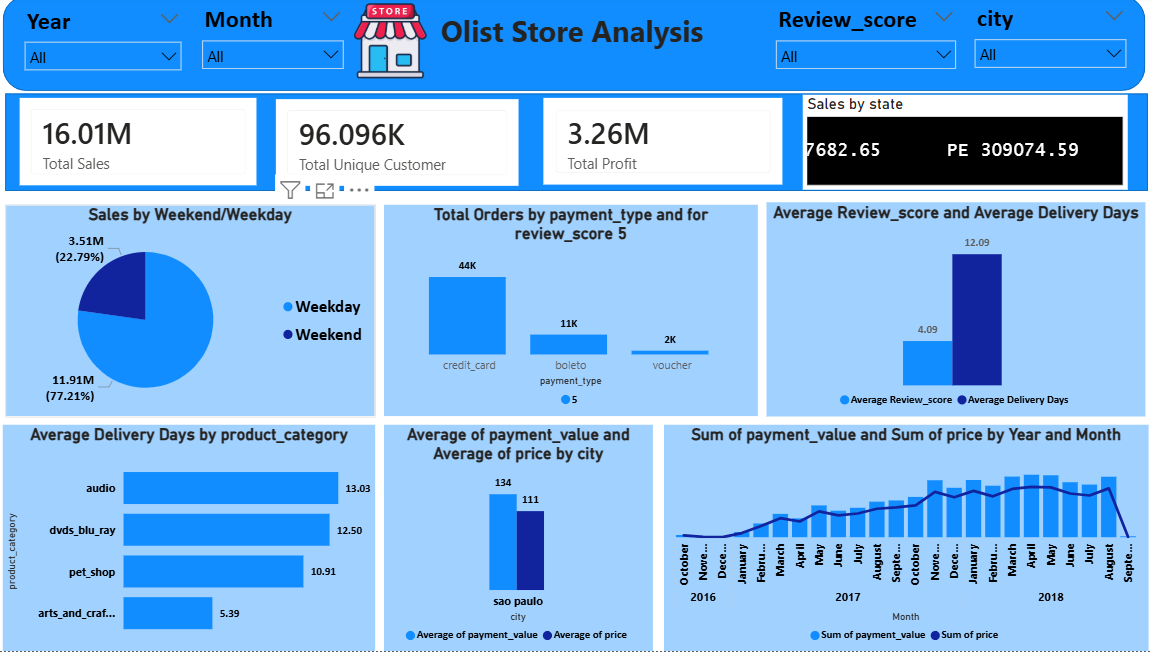

This screenshot's page, from the dashboard's own definition file:
{"tool":"powerbi","page":{"name":"Page 3","canvas":[1280,720],"ordinal":2},"visuals":[{"type":"shape","box":[9.6,0,1254.2,104.3],"z":0},{"type":"shape","box":[12.8,106.9,1254.3,106.9],"z":1000},{"type":"textbox","box":[471.8,11.4,325,55.6],"z":2000},{"type":"cardVisual","fields":{"Data":["Sum(payments_dataset.payment_value)"]},"box":[22.8,106.9,270.8,106.9],"z":3000},{"type":"cardVisual","fields":{"Data":["Count(customers_dataset.customer_unique_id)"]},"box":[305,108.3,276.5,105.5],"z":4000},{"type":"cardVisual","fields":{"Data":["customers_dataset.Sum of payment_value minus Sum of price"]},"box":[598.7,106.9,272.2,105.5],"z":5000},{"type":"ScrollingTextVisual1448795304508","fields":{"Category":["customers_dataset.state"],"Measure Absolute":["Sum(payments_dataset.payment_value)"]},"box":[888,108.3,356.3,104.1],"z":6000},{"type":"pieChart","fields":{"Category":["orders_dataset.Weekend/Weekday"],"Y":["Sum(payments_dataset.payment_value)"]},"box":[12.8,229.5,406.2,232.3],"z":7000},{"type":"columnChart","fields":{"Y":["Count(orders_dataset.order_id)"],"Category":["payments_dataset.payment_type"],"Series":["reviews_dataset.review_score"]},"box":[427.6,229.5,410.5,232.3],"z":8000},{"type":"clusteredColumnChart","fields":{"Y":["Avg(reviews_dataset.review_score)","Avg(orders_dataset.Days)"]},"box":[848.1,226.6,416.2,235.2],"z":9000},{"type":"barChart","fields":{"Category":["product_category_name.product_category_name_english"],"Y":["Avg(orders_dataset.Days)"]},"box":[10,470.4,409.1,249.4],"z":10000},{"type":"clusteredColumnChart","fields":{"Y":["Avg(payments_dataset.payment_value)","Avg(Items_dataset.price)"],"Category":["Geolocation_dataset.city"]},"box":[427.6,470.4,295.1,249.4],"z":11000},{"type":"lineClusteredColumnComboChart","fields":{"Category":["orders_dataset.order_delivered_carrier_date.Variation.Date Hierarchy.Year","orders_dataset.order_delivered_carrier_date.Variation.Date Hierarchy.Month"],"Y":["Sum(payments_dataset.payment_value)"],"Y2":["Sum(Items_dataset.price)"]},"box":[735.5,470.4,531.7,249.4],"z":12000},{"type":"slicer","fields":{"Values":["orders_dataset.order_delivered_carrier_date.Variation.Date Hierarchy.Year"]},"box":[22.8,5.7,192.4,89.8],"z":13000},{"type":"slicer","fields":{"Values":["orders_dataset.order_delivered_carrier_date.Variation.Date Hierarchy.Month"]},"box":[218.1,4.3,175.3,89.8],"z":14000},{"type":"slicer","fields":{"Values":["reviews_dataset.review_score"]},"box":[848.1,4.3,218.1,99.8],"z":15000},{"type":"slicer","fields":{"Values":["customers_dataset.city"]},"box":[1066.2,2.9,186.7,92.7],"z":16000},{"type":"image","box":[393.4,0,82.7,98.4],"z":17000}]}

Visuals, with their boxes in screenshot pixels (x1, y1, x2, y2), scaled from the page's 1280x720 canvas onto the 1152x652 screenshot:
shape: select_region(9, 0, 1137, 94)
shape: select_region(12, 97, 1140, 194)
textbox: select_region(425, 10, 717, 61)
cardVisual - Sum(payments_dataset.payment_value): select_region(21, 97, 264, 194)
cardVisual - Count(customers_dataset.customer_unique_id): select_region(274, 98, 523, 194)
cardVisual - customers_dataset.Sum of payment_value minus Sum of price: select_region(539, 97, 784, 192)
ScrollingTextVisual1448795304508 - customers_dataset.state x Sum(payments_dataset.payment_value): select_region(799, 98, 1120, 192)
pieChart - orders_dataset.Weekend/Weekday x Sum(payments_dataset.payment_value): select_region(12, 208, 377, 418)
columnChart - Count(orders_dataset.order_id) x payments_dataset.payment_type: select_region(385, 208, 754, 418)
clusteredColumnChart - Avg(reviews_dataset.review_score) x Avg(orders_dataset.Days): select_region(763, 205, 1138, 418)
barChart - product_category_name.product_category_name_english x Avg(orders_dataset.Days): select_region(9, 426, 377, 651)
clusteredColumnChart - Avg(payments_dataset.payment_value) x Avg(Items_dataset.price): select_region(385, 426, 650, 651)
lineClusteredColumnComboChart - orders_dataset.order_delivered_carrier_date.Variation.Date Hierarchy.Year x orders_dataset.order_delivered_carrier_date.Variation.Date Hierarchy.Month: select_region(662, 426, 1140, 651)
slicer - orders_dataset.order_delivered_carrier_date.Variation.Date Hierarchy.Year: select_region(21, 5, 194, 86)
slicer - orders_dataset.order_delivered_carrier_date.Variation.Date Hierarchy.Month: select_region(196, 4, 354, 85)
slicer - reviews_dataset.review_score: select_region(763, 4, 960, 94)
slicer - customers_dataset.city: select_region(960, 3, 1128, 87)
image: select_region(354, 0, 428, 89)
